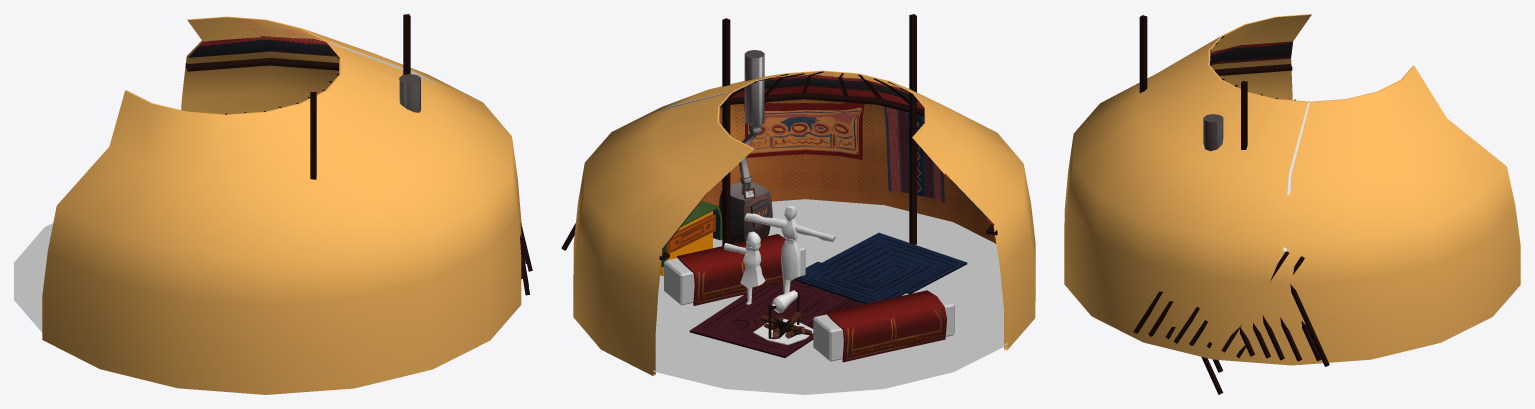
The model's file is Yurt environment.FBX.
The picture shows the model from 3 angles, left to right: view 1: azimuth 30°, elevation 25°; view 2: azimuth 150°, elevation 25°; view 3: azimuth 270°, elevation 25°; orthographic projection. The views are drawn at different scales.
Visible parts, largest first — view 1: Object, Cylinder001, Cylinder012, Box001, Box011, Box010, Box014; view 2: Object, Cylinder001, Plane007, Plane004, Plane002, Plane001, Plane006, Box001, Plane003, Box011, Box002, Box010 (+8 smaller); view 3: Object, Box014, Box001, Box011, Cylinder012, Box010.
Part boxes in pixels (x1=…): Object: x1=42, y1=16, x2=521, y2=394; Cylinder001: x1=14, y1=223, x2=53, y2=332; Cylinder012: x1=185, y1=58, x2=339, y2=71; Box001: x1=399, y1=74, x2=420, y2=112; Box011: x1=310, y1=92, x2=316, y2=179; Box010: x1=403, y1=14, x2=410, y2=74; Box014: x1=520, y1=222, x2=532, y2=295; Object: x1=573, y1=70, x2=1035, y2=375; Cylinder001: x1=653, y1=199, x2=1007, y2=394; Plane007: x1=794, y1=232, x2=967, y2=303; Plane004: x1=743, y1=102, x2=864, y2=159; Plane002: x1=826, y1=290, x2=946, y2=362; Plane001: x1=689, y1=280, x2=863, y2=357; Plane006: x1=676, y1=234, x2=796, y2=305; Box001: x1=719, y1=50, x2=772, y2=243; Plane003: x1=884, y1=106, x2=944, y2=202; Box011: x1=909, y1=14, x2=916, y2=244; Box002: x1=813, y1=290, x2=954, y2=361; Box010: x1=722, y1=18, x2=730, y2=245; Object: x1=1064, y1=14, x2=1520, y2=365; Box014: x1=1133, y1=251, x2=1329, y2=394; Box001: x1=1203, y1=114, x2=1223, y2=151; Box011: x1=1139, y1=15, x2=1147, y2=92; Cylinder012: x1=1214, y1=64, x2=1292, y2=75; Box010: x1=1241, y1=81, x2=1247, y2=149.
Bounding box in the file's own units: 264 × 163 × 246.
